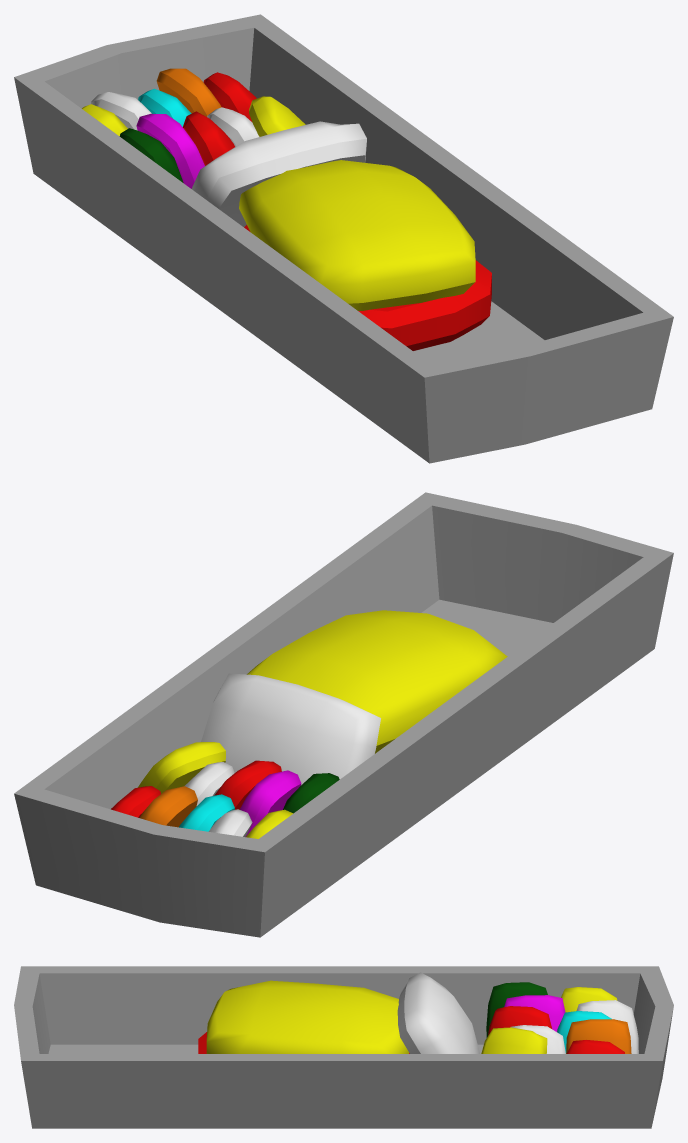
File: BedRoom_ClothesInABox.fbx
The picture shows the model from 3 angles, top to bottom: view 1: azimuth 30°, elevation 25°; view 2: azimuth 150°, elevation 25°; view 3: azimuth 270°, elevation 25°; orthographic projection. The views are drawn at different scales.
Visible parts, largest first — view 1: BedRoom_ClothesInABox; view 2: BedRoom_ClothesInABox; view 3: BedRoom_ClothesInABox.
Boxes of the visible parts, x1,y1,x2,y2 form: BedRoom_ClothesInABox: (14,14,673,463); BedRoom_ClothesInABox: (14,492,673,937); BedRoom_ClothesInABox: (14,966,673,1128).
Size of the model in its own units: 55.52 by 26.51 by 164.
